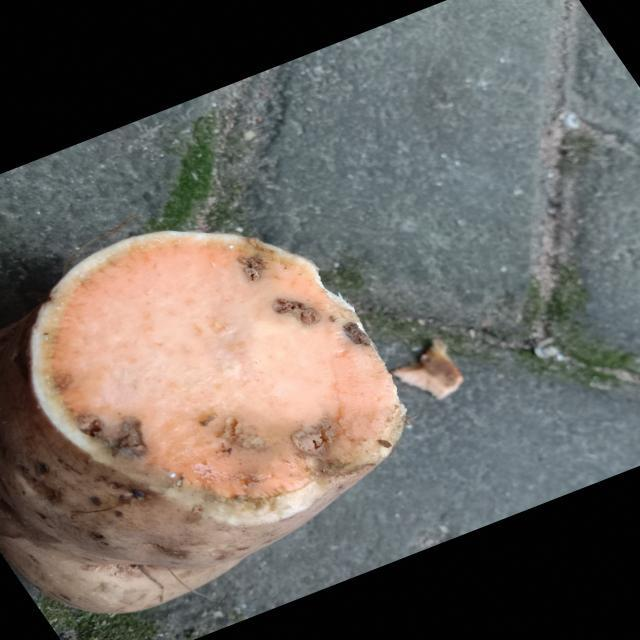Sick Sweet Potato_Tuber Rot: (35, 231, 398, 500)
